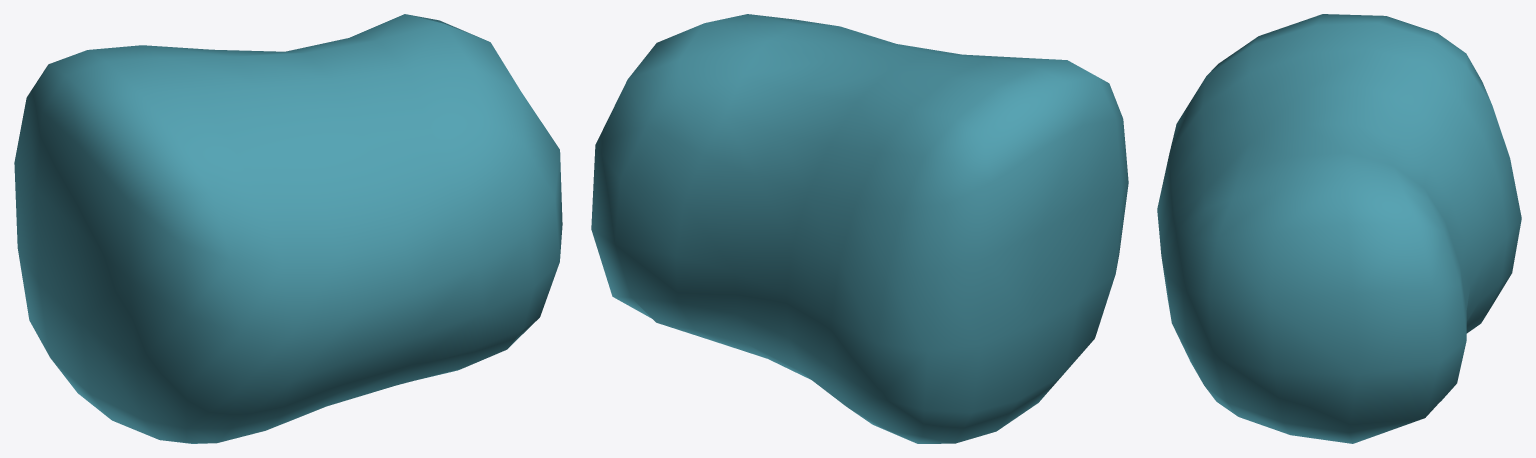
Rendered from VIS_Alpha_Surface_021.dae.
3 views of the same model, side by side, from view 1: azimuth 30°, elevation 25°; view 2: azimuth 150°, elevation 25°; view 3: azimuth 270°, elevation 25° (orthographic). The views are drawn at different scales.
Parts seen in each view (by area): view 1: VIS_Alpha_Surface_021; view 2: VIS_Alpha_Surface_021; view 3: VIS_Alpha_Surface_021.
Part boxes in pixels (x1,y1,x2,y2): VIS_Alpha_Surface_021: (14, 14, 562, 443); VIS_Alpha_Surface_021: (591, 14, 1128, 443); VIS_Alpha_Surface_021: (1157, 14, 1521, 443).
Bounding box in the file's own units: 0.0342 × 0.0272 × 0.025.
